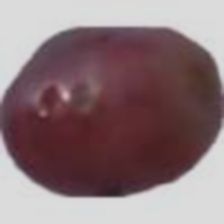grapes: (17, 19, 188, 187)
